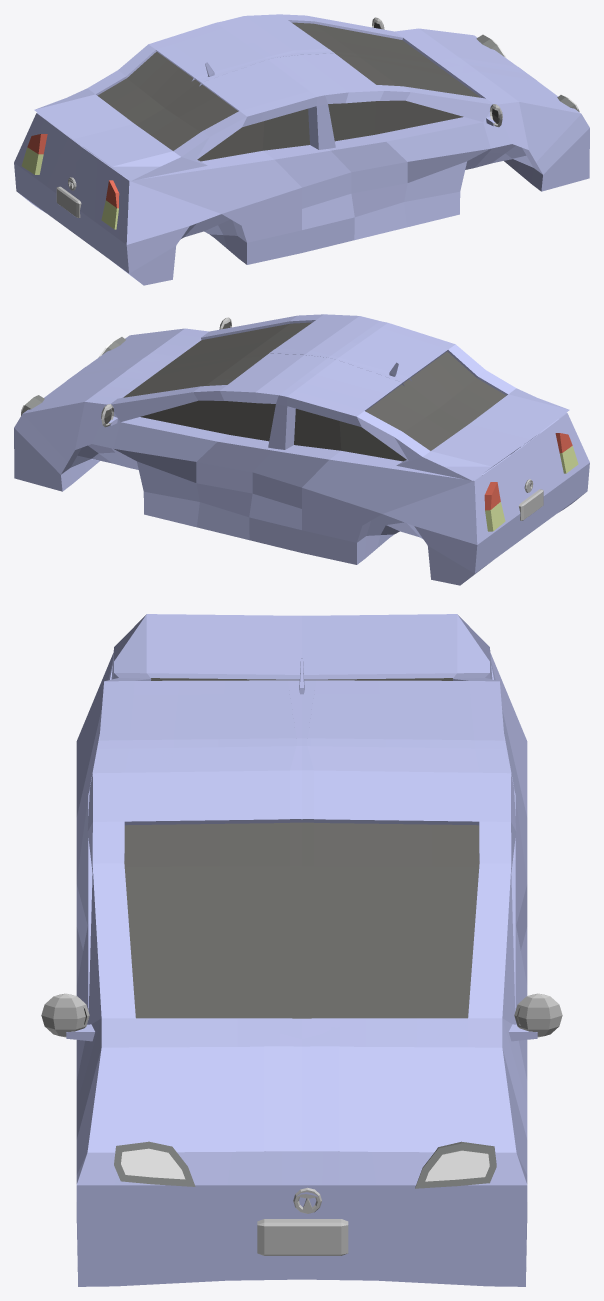
Rendered from toyotaPrius.fbx.
3 renders of one model, top to bottom at view 1: azimuth 30°, elevation 25°; view 2: azimuth 150°, elevation 25°; view 3: azimuth 270°, elevation 25°, orthographic. The views are drawn at different scales.
Visible parts, largest first — view 1: Body, BackLight, BackNum; view 2: Body, BackLight, BackNum; view 3: Body, Cube.003, FRLight, FLLight.
Boxes of the visible parts, x1,y1,x2,y2 form: Body: (14, 14, 589, 285); BackLight: (21, 134, 119, 229); BackNum: (56, 186, 81, 217); Body: (14, 314, 589, 585); BackLight: (484, 433, 578, 531); BackNum: (519, 489, 543, 520); Body: (41, 614, 562, 1286); Cube.003: (257, 1219, 348, 1255); FRLight: (415, 1141, 496, 1188); FLLight: (114, 1141, 195, 1186).
Size of the model in its own units: 2369 by 763 by 1132.
